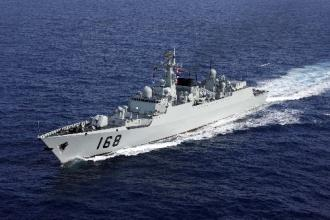warship: (34, 49, 266, 167)
